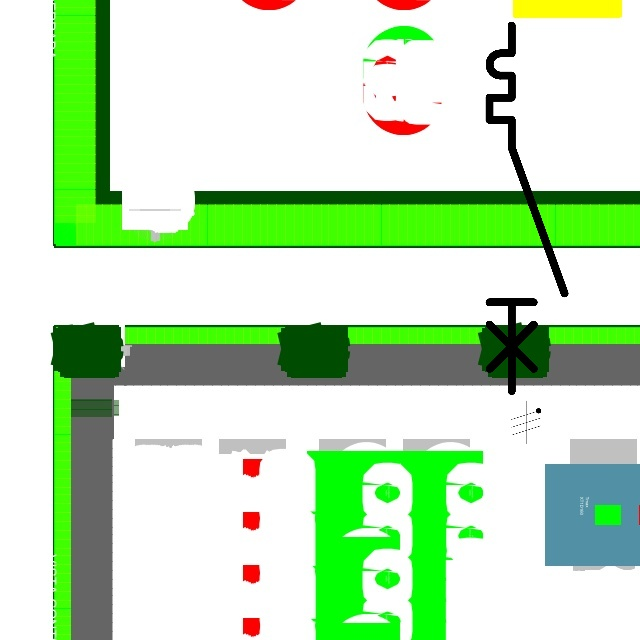interruptor_termomagnetico: (480, 16, 574, 401)
